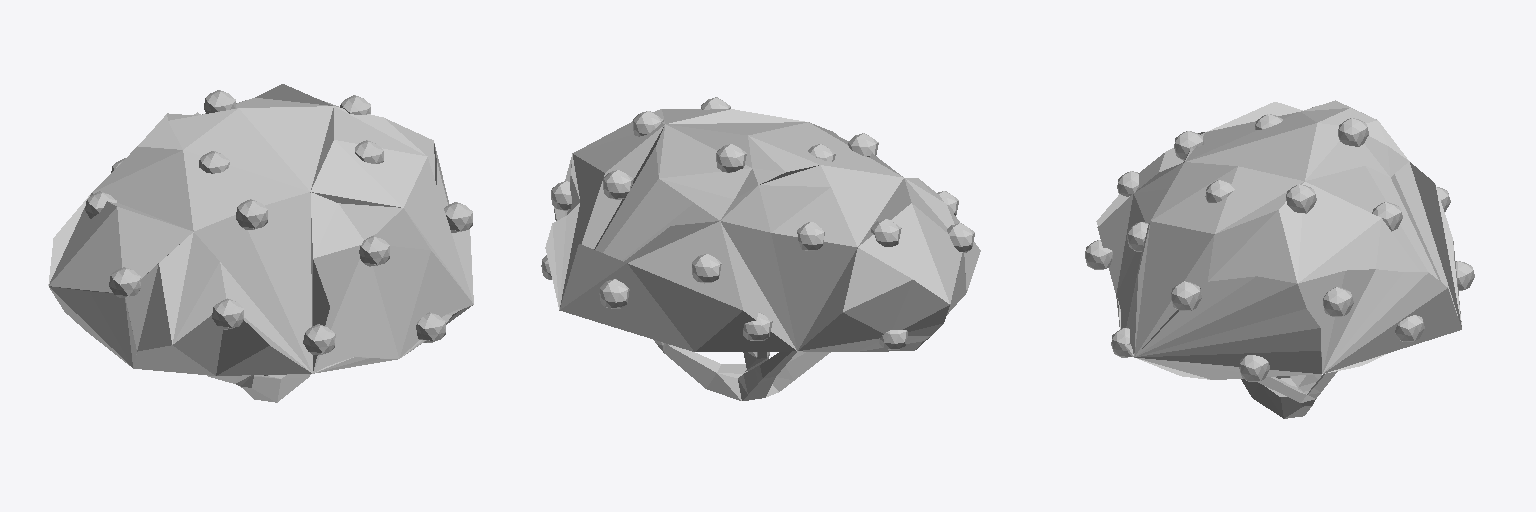
Rendered from bush-tree-harvest.obj.
The picture shows the model from 3 angles: view 1: azimuth 30°, elevation 25°; view 2: azimuth 150°, elevation 25°; view 3: azimuth 270°, elevation 25°; orthographic projection.
Visible parts, largest first — view 1: bush; view 2: bush; view 3: bush.
Part boxes in pixels (x1,y1,x2,y2): bush: (48,84,473,402); bush: (541,97,980,400); bush: (1085,100,1474,418).
Size of the model in its own units: 5.07 by 3.44 by 4.4.